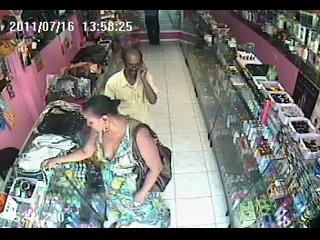Normal: (41, 94, 170, 226), (104, 48, 159, 126), (144, 10, 160, 45)
